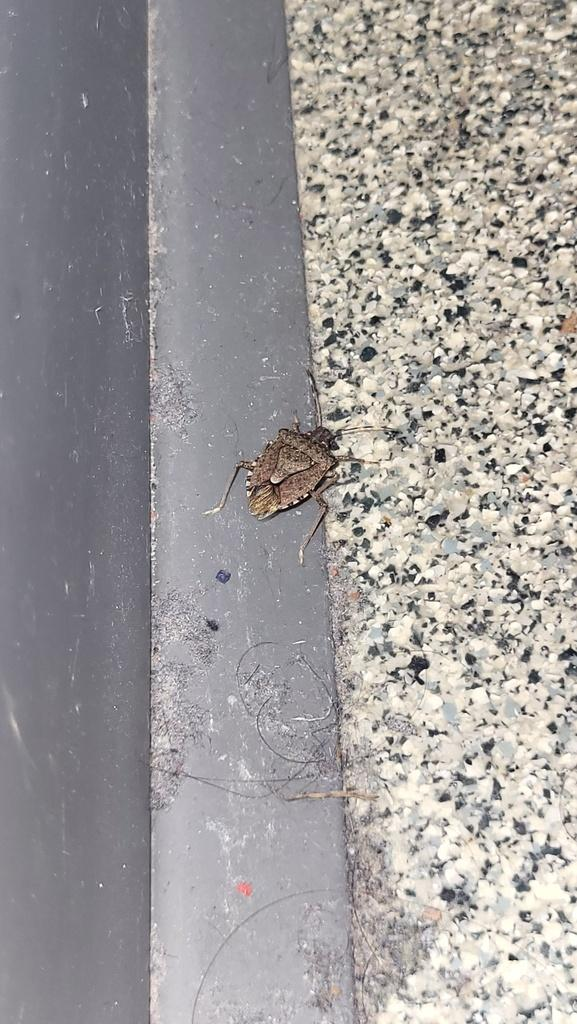stink_bugs: (175, 338, 429, 598)
